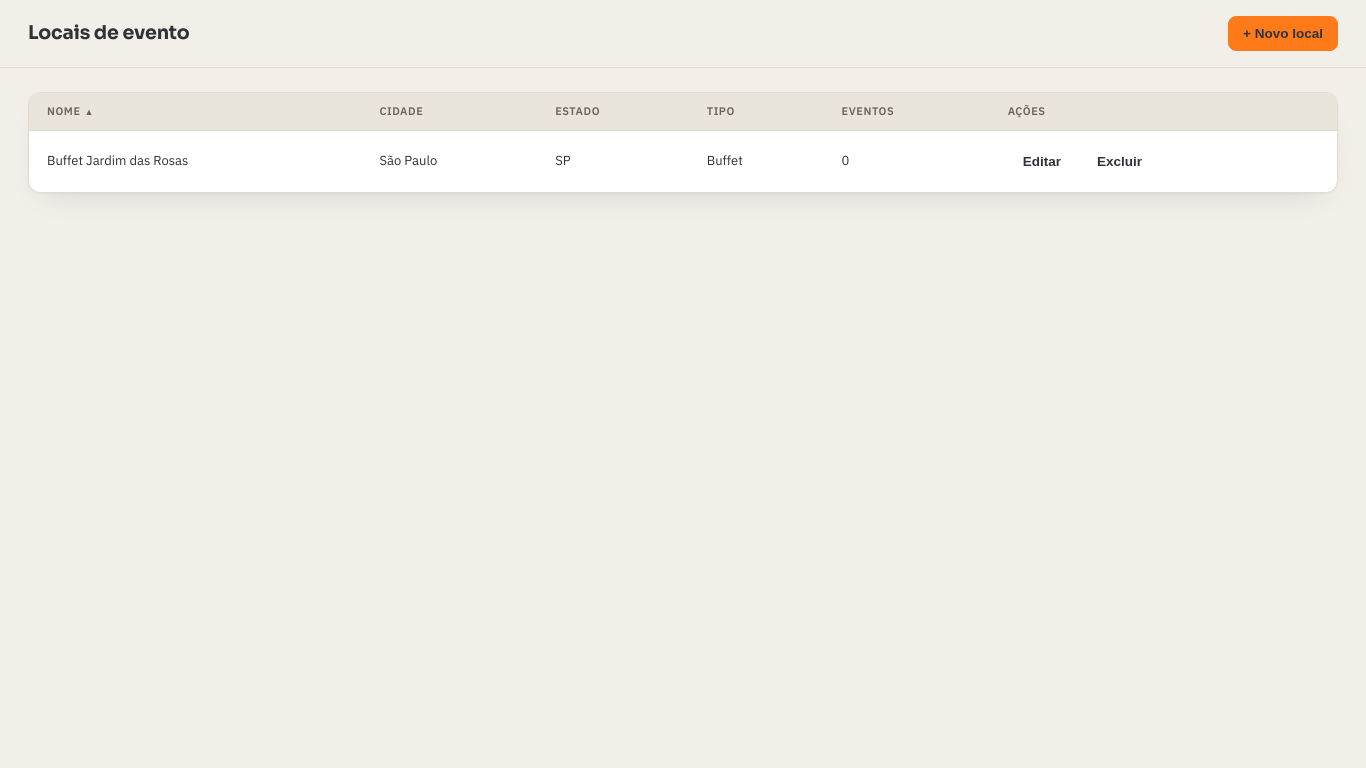
Test case: EventVenuesPage › exclui um local após confirmação, e não exclui quando cancelado
This screenshot has width=1366, height=768.
Expected: the text "Buffet Jardim das Rosas" is shown, [29,130,362,192]
Click the button "Excluir".
click(1119, 161)  # box [1082,144,1157,178]
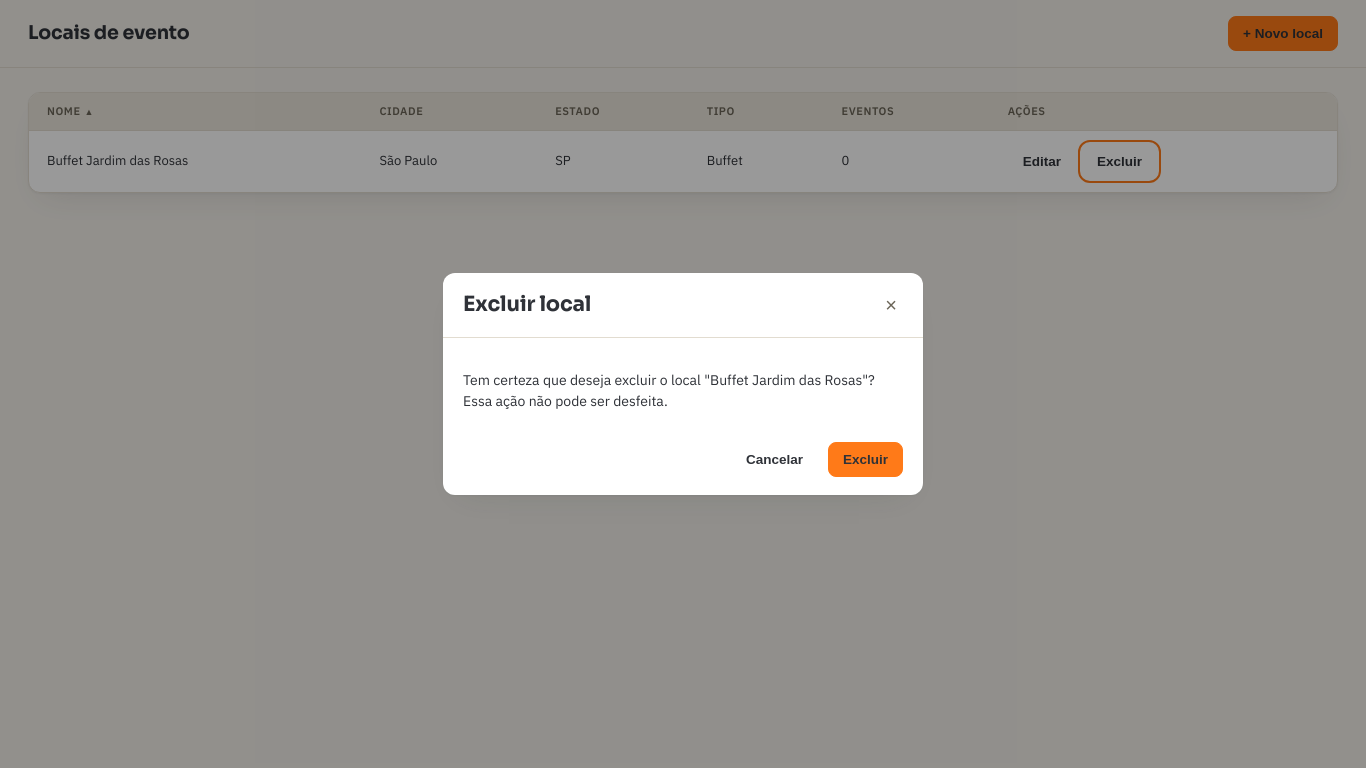
Click the button "Cancelar".
click(774, 459)  # box [731,442,818,477]
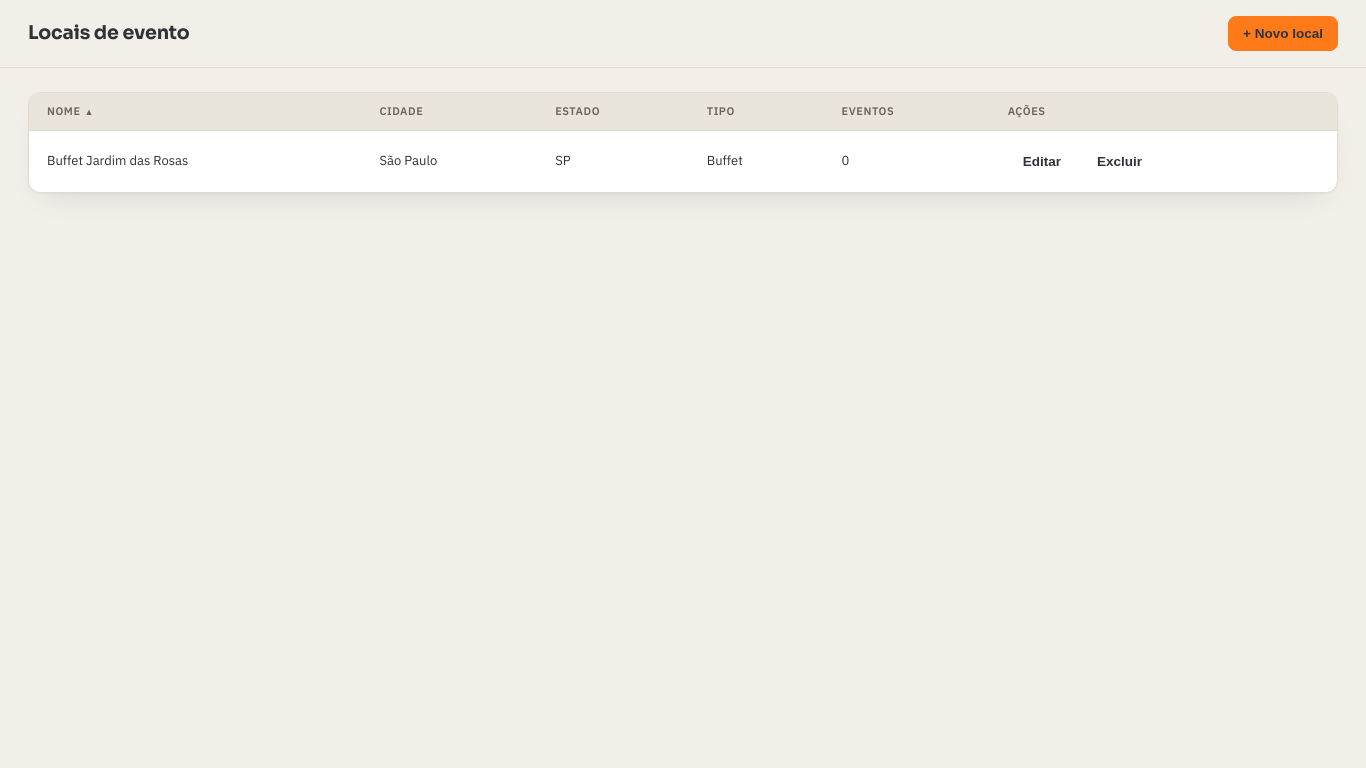
Expected: the text "Buffet Jardim das Rosas" is shown, [29,130,362,192]
Click the button "Excluir".
click(1119, 161)  # box [1082,144,1157,178]
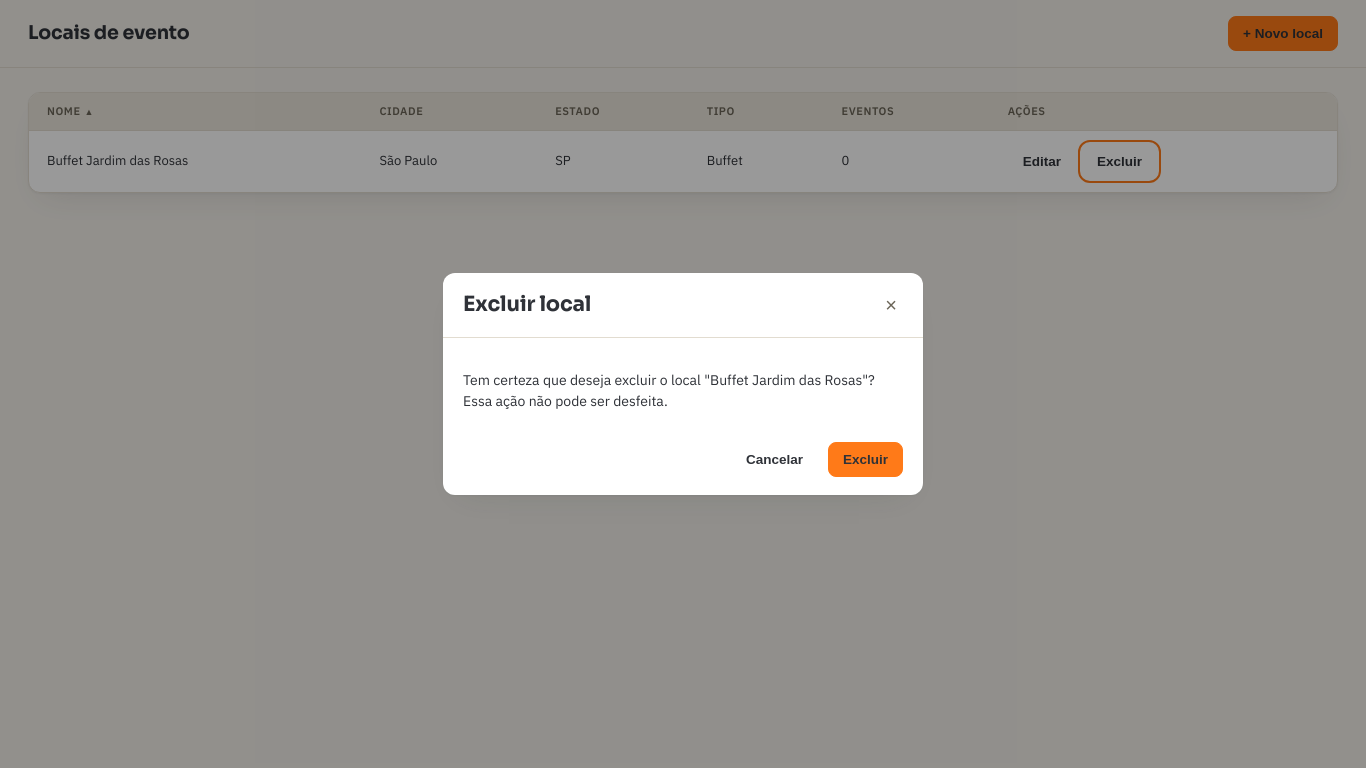
Click the button "Excluir".
click(866, 459)  # box [828,442,903,477]
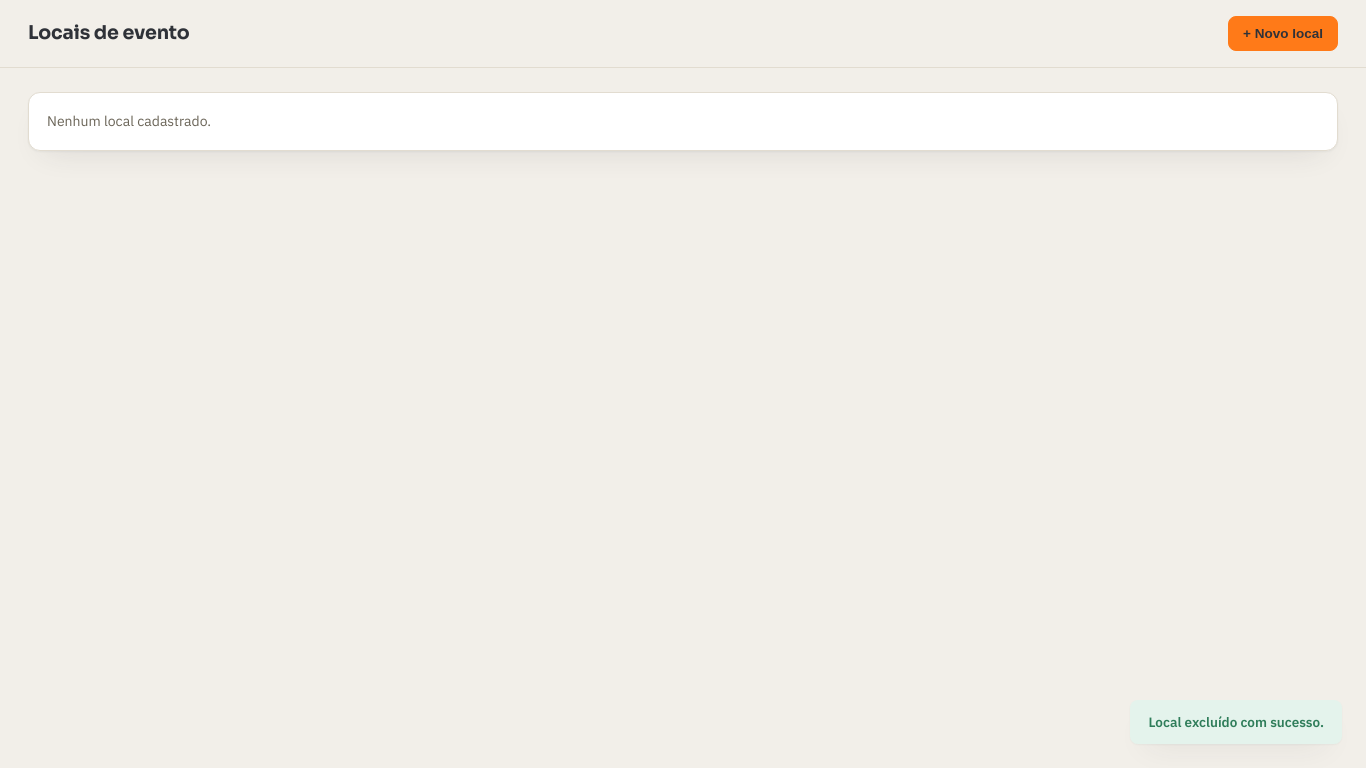
Now the text "Buffet Jardim das Rosas" is gone
